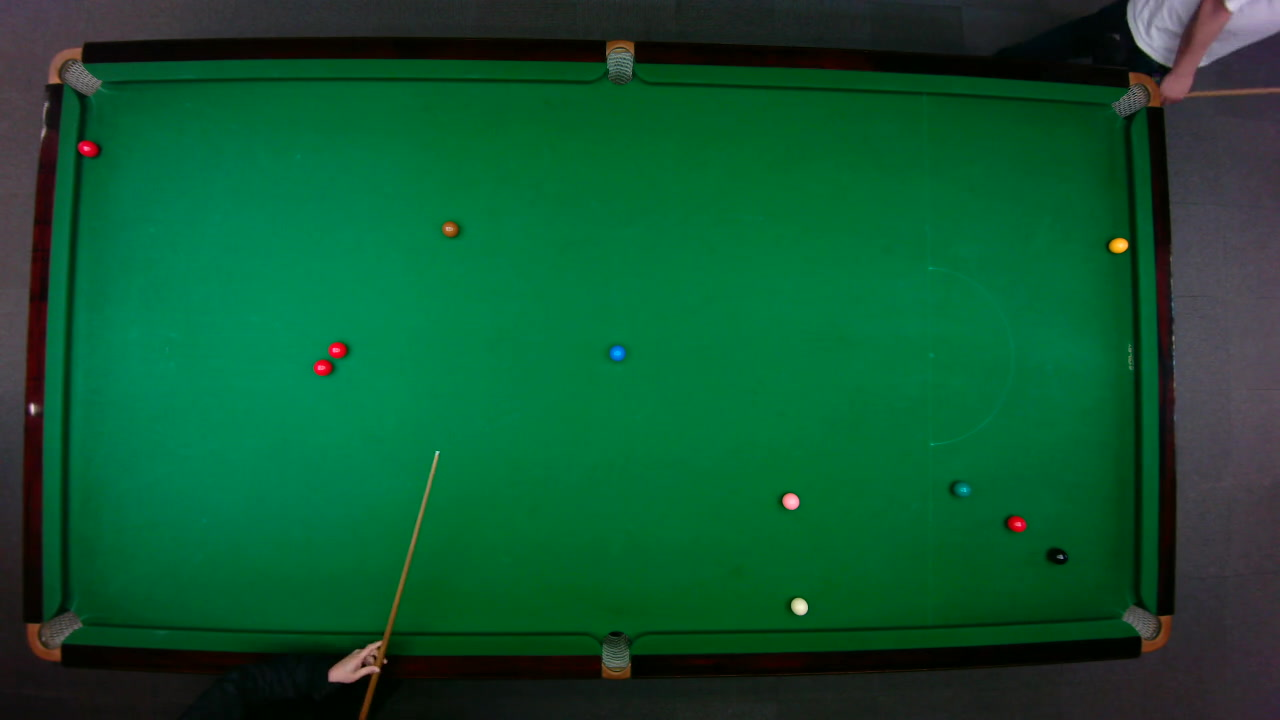bag: (24, 609, 84, 661), (45, 46, 102, 96), (1119, 603, 1171, 652), (1109, 71, 1161, 117), (600, 629, 629, 680), (605, 38, 633, 85)
black: (1048, 547, 1068, 564)
blue: (607, 343, 626, 361)
brown: (440, 220, 458, 237)
cue: (357, 450, 440, 719)
green: (951, 480, 971, 497)
pink: (780, 490, 800, 510)
red: (75, 139, 100, 158), (1005, 514, 1027, 532), (311, 358, 333, 376), (326, 340, 347, 358)
white: (789, 596, 808, 616)
yellow: (1107, 236, 1129, 253)
zone: (927, 266, 1013, 445)
